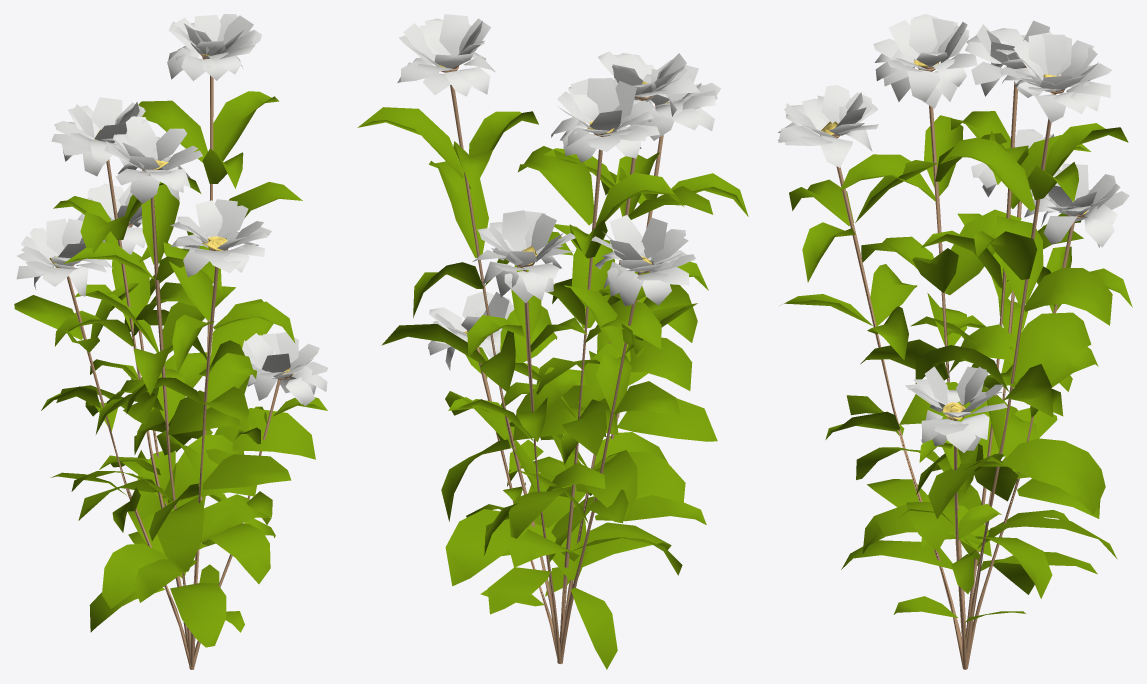
The model's file is jasmine_climber.glb.
The picture shows the model from 3 angles, left to right: view 1: azimuth 30°, elevation 25°; view 2: azimuth 150°, elevation 25°; view 3: azimuth 270°, elevation 25°; orthographic projection. The views are drawn at different scales.
Visible parts, largest first — view 1: Object_6, Object_5, Object_7; view 2: Object_6, Object_5, Object_7; view 3: Object_6, Object_5, Object_7.
Part boxes in pixels (<box>): Object_6: <box>14,91,327,647</box>; Object_5: <box>16,14,328,406</box>; Object_7: <box>55,54,293,669</box>; Object_6: <box>357,107,748,669</box>; Object_5: <box>397,14,720,370</box>; Object_7: <box>441,65,663,663</box>; Object_6: <box>780,111,1132,622</box>; Object_5: <box>778,14,1129,452</box>; Object_7: <box>820,63,1085,669</box>.
Bounding box in the file's own units: 1.08 × 2.19 × 1.08.
